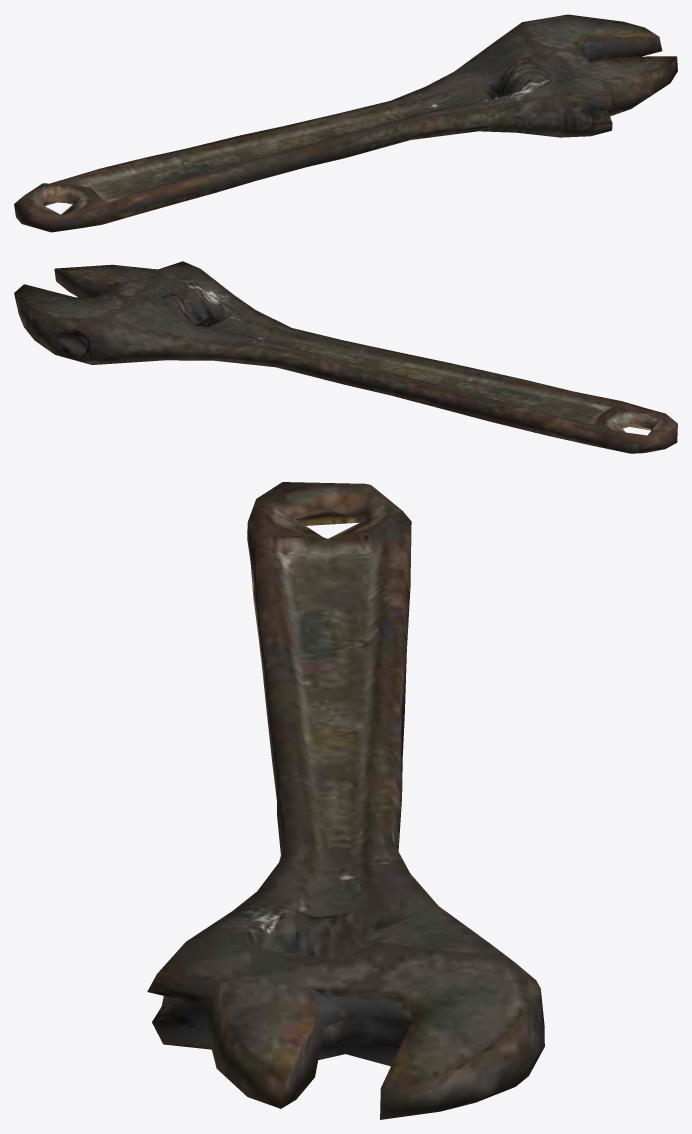
3 views of the same model, one above another, from view 1: azimuth 30°, elevation 25°; view 2: azimuth 150°, elevation 25°; view 3: azimuth 270°, elevation 25° (orthographic). The views are drawn at different scales.
Parts seen in each view (by area): view 1: adjustable_wrench_lod3; view 2: adjustable_wrench_lod3; view 3: adjustable_wrench_lod3.
Boxes of the visible parts, bbox=[...] form: adjustable_wrench_lod3: bbox=[14, 14, 677, 232]; adjustable_wrench_lod3: bbox=[14, 261, 677, 453]; adjustable_wrench_lod3: bbox=[147, 482, 544, 1119].
Bounding box in the file's own units: 2.26 × 0.1703 × 0.6089.
1 material, 1 textured.
